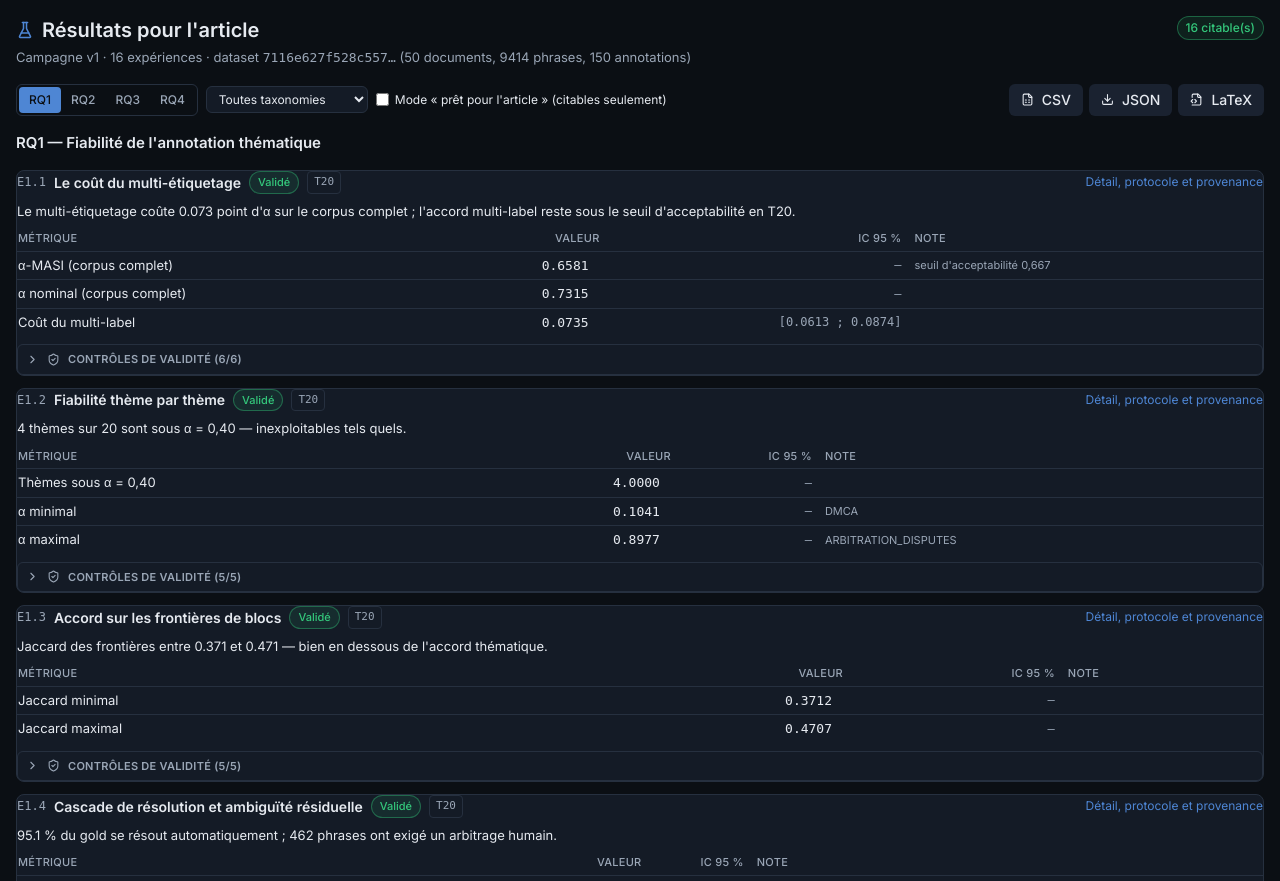
PaperResults (vue) › déplie le détail : protocole, contrôles et provenance
What coordinates should you click on to do the following:
click the button "Détail, protocole et provenance" in the row of "Le coût du multi-étiquetage"
I would click on:
 (1174, 182)
Its box is [1086, 173, 1263, 191].
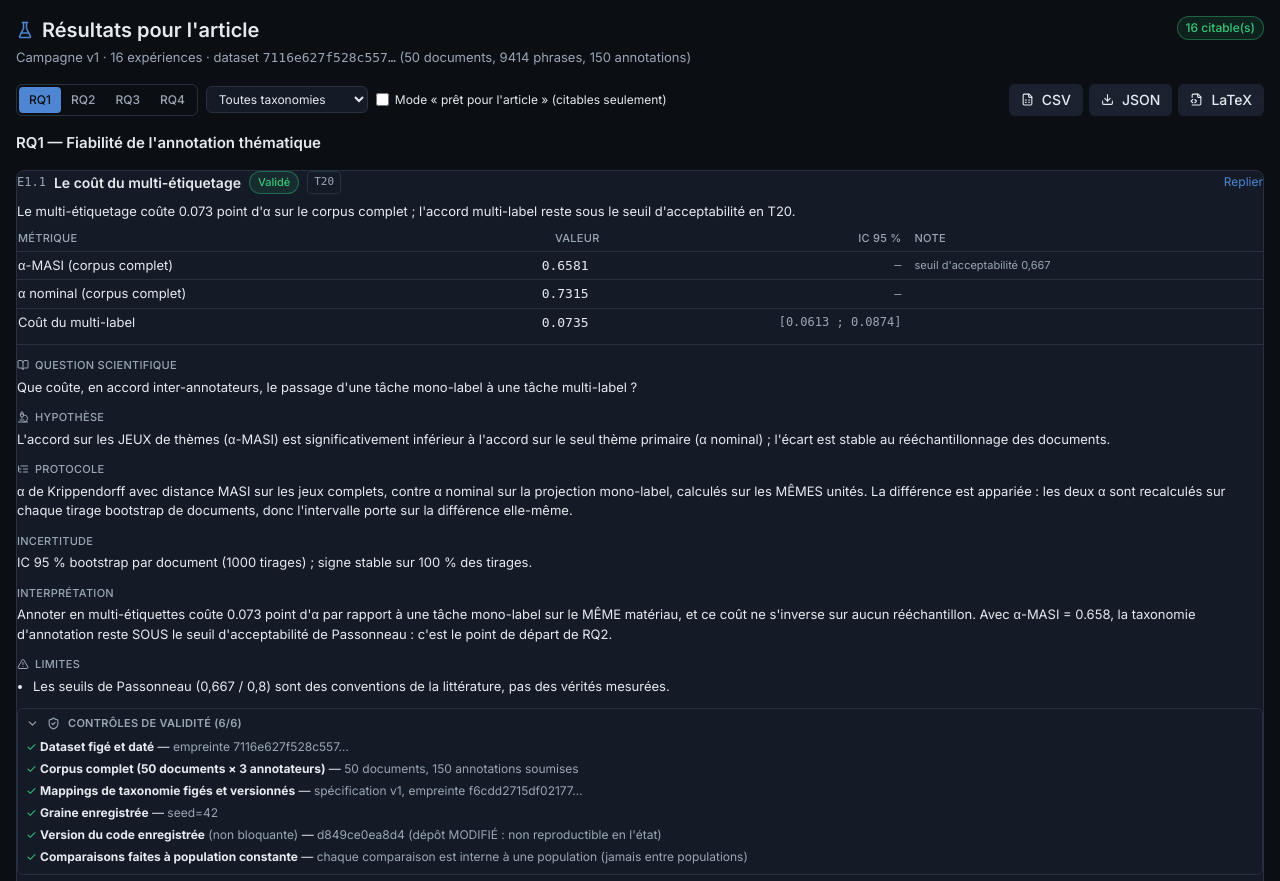
expect the element with test id "paper-detail" shows "Que coûte, en accord inter-annotateurs,": met, box [17, 378, 637, 394]
